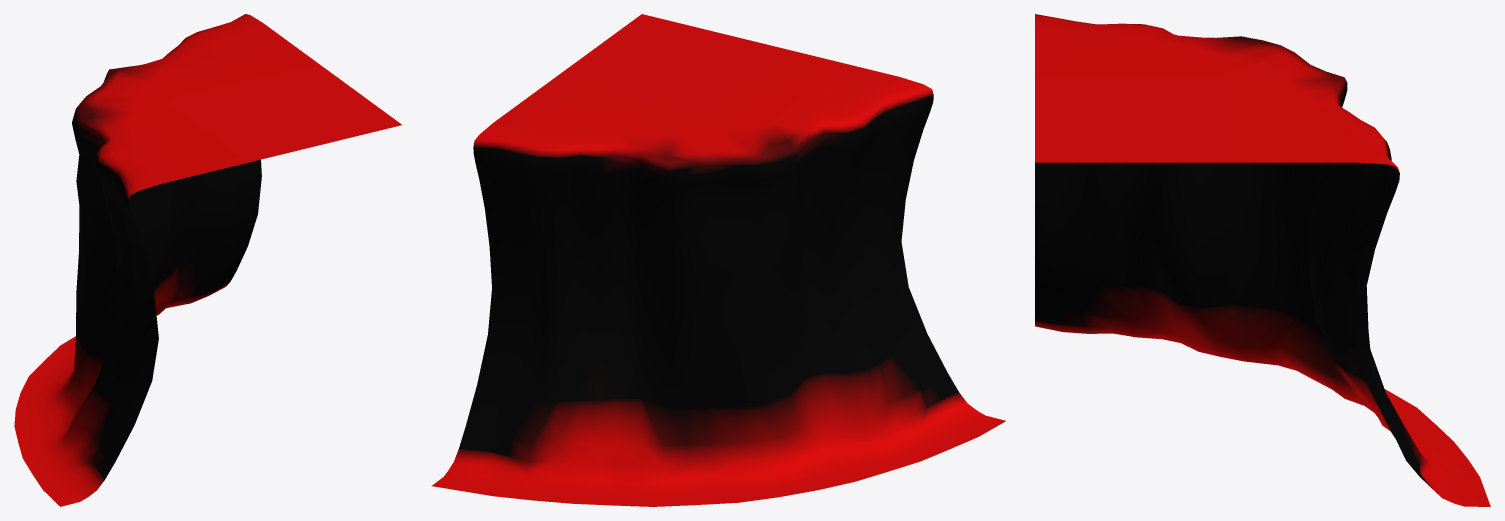
File: GroundCliff03D 2M Background.fbx
3 views of the same model, side by side, from view 1: azimuth 30°, elevation 25°; view 2: azimuth 150°, elevation 25°; view 3: azimuth 270°, elevation 25° (orthographic). The views are drawn at different scales.
Visible parts, largest first — view 1: GroundCliff03D 2M Background; view 2: GroundCliff03D 2M Background; view 3: GroundCliff03D 2M Background.
Part boxes in pixels (x1,y1,x2,y2): GroundCliff03D 2M Background: (14,14,401,506); GroundCliff03D 2M Background: (432,14,1005,506); GroundCliff03D 2M Background: (1035,14,1490,506).
Size of the model in its own units: 2.4 by 2 by 2.4.
